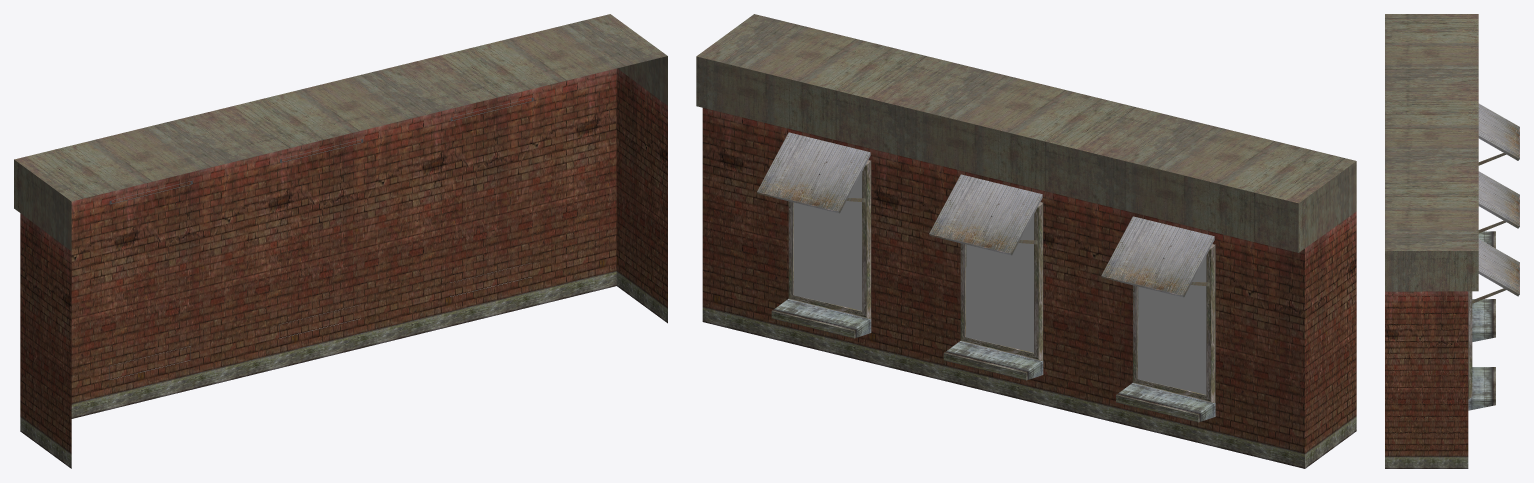
The model's file is Store_front_5_B.fbx.
The picture shows the model from 3 angles, left to right: view 1: azimuth 30°, elevation 25°; view 2: azimuth 150°, elevation 25°; view 3: azimuth 270°, elevation 25°; orthographic projection. The views are drawn at different scales.
Visible parts, largest first — view 1: Store_front_5_B; view 2: Store_front_5_B; view 3: Store_front_5_B.
Part boxes in pixels (bbox=[...]): Store_front_5_B: bbox=[14, 14, 667, 468]; Store_front_5_B: bbox=[696, 14, 1356, 468]; Store_front_5_B: bbox=[1385, 14, 1519, 468].
Bounding box in the file's own units: 700 × 300 × 168.
